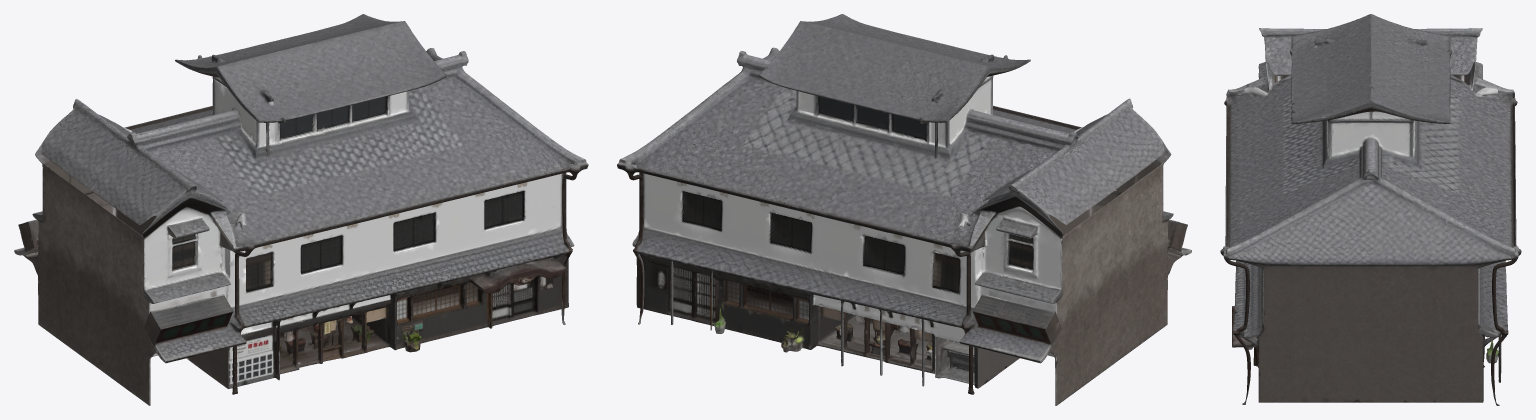
File: nihonmarukan.glb
3 renders of one model, left to right at view 1: azimuth 30°, elevation 25°; view 2: azimuth 150°, elevation 25°; view 3: azimuth 270°, elevation 25°, orthographic. The views are drawn at different scales.
Visible parts, largest first — view 1: Mesh_0; view 2: Mesh_0; view 3: Mesh_0.
Boxes of the visible parts, x1,y1,x2,y2 form: Mesh_0: (14, 14, 588, 405); Mesh_0: (617, 14, 1191, 405); Mesh_0: (1220, 14, 1521, 405).
Size of the model in its own units: 1.9 by 1.19 by 1.24.
Materials: 1 (1 with a texture image).
